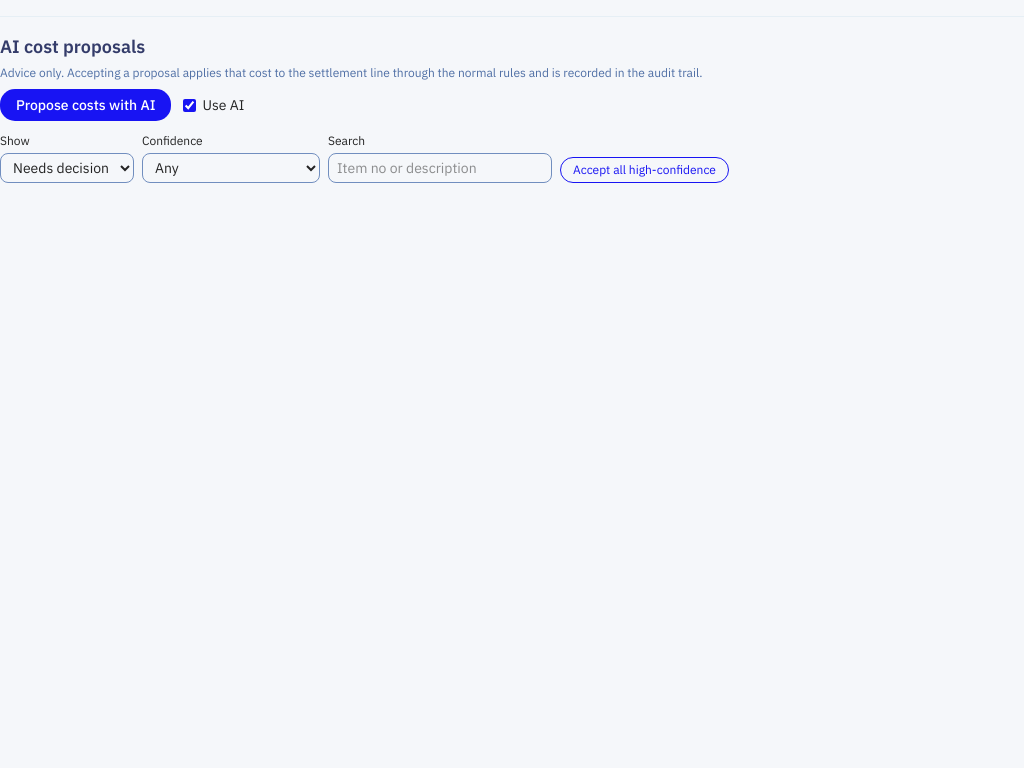
Scenario: AiCostProposalsPanel › confirms bulk accept, states the threshold and shows the returned counts
Click the button "Accept all high-confidence" at (644, 170), box [560, 157, 729, 183]
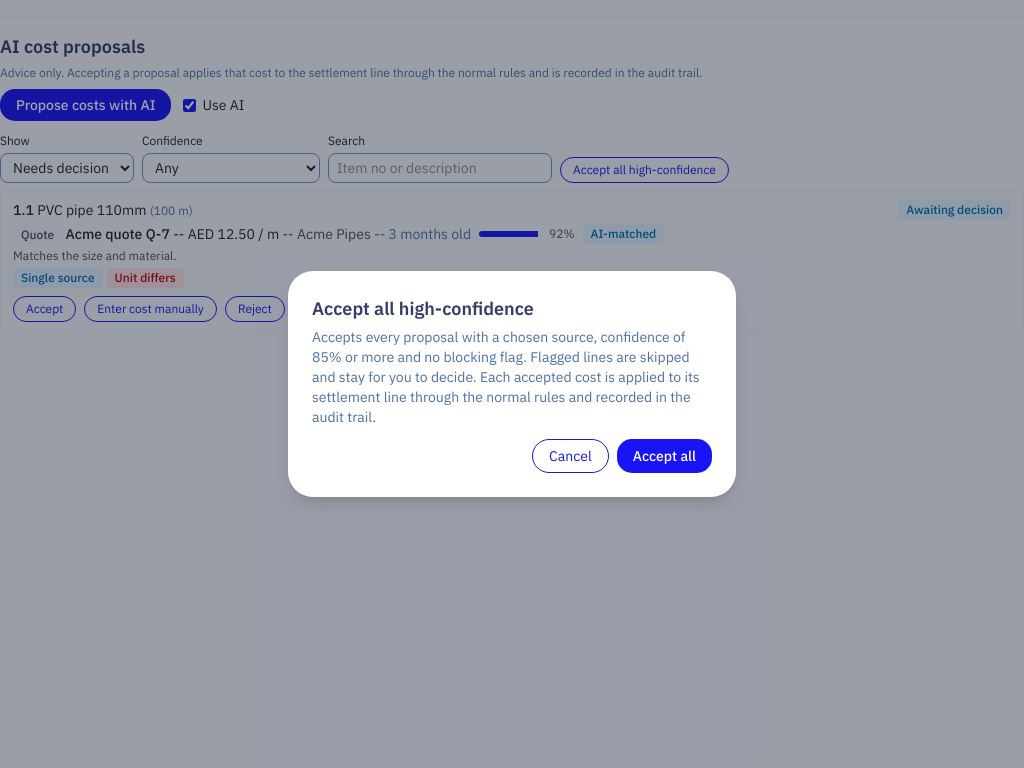
Expected: the dialog shows "85%", [312, 328, 700, 426]
Expected: the dialog shows "Flagged lines are skipped", [312, 328, 700, 426]
Click the button "Accept all" at (664, 456), box [617, 439, 712, 473]
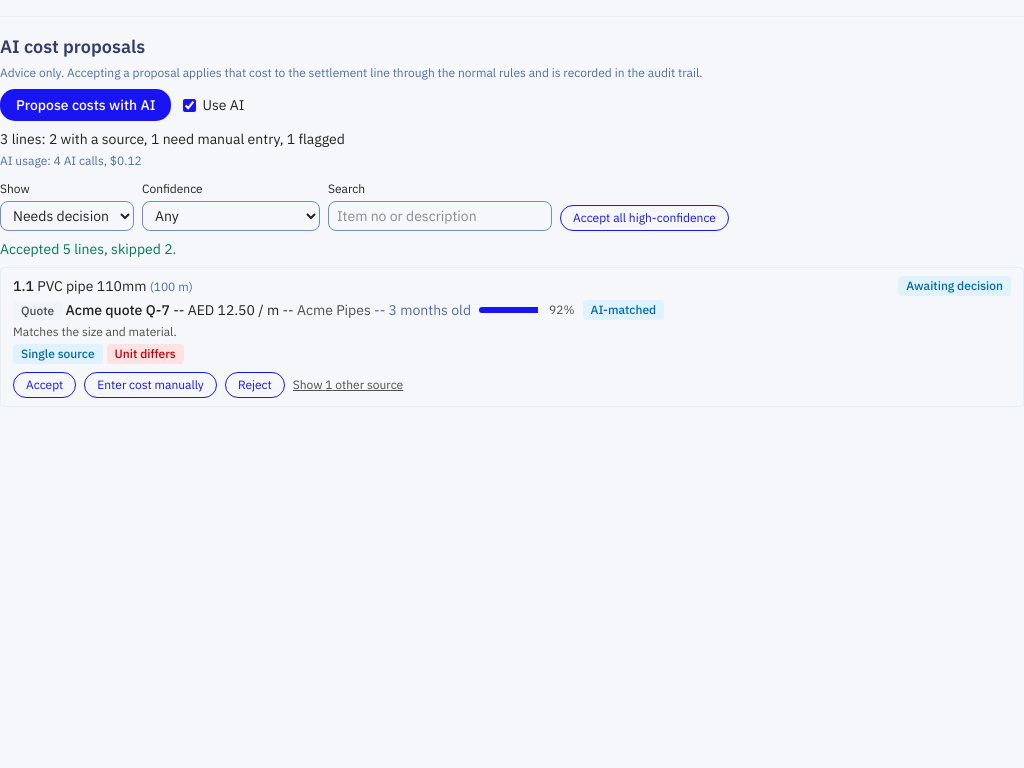
Expected: the text "Accepted 5 lines, skipped 2." is shown, [0, 240, 176, 258]
